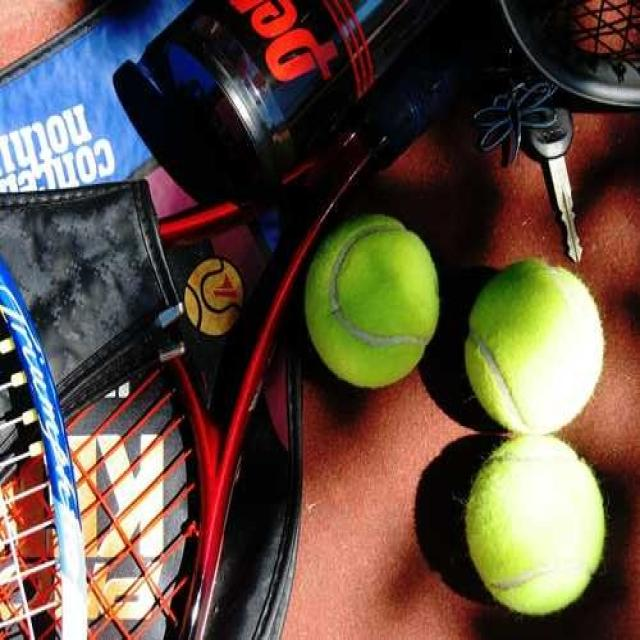Tennis_Ball: (467, 258, 604, 437), (467, 436, 602, 612), (305, 218, 442, 388)
